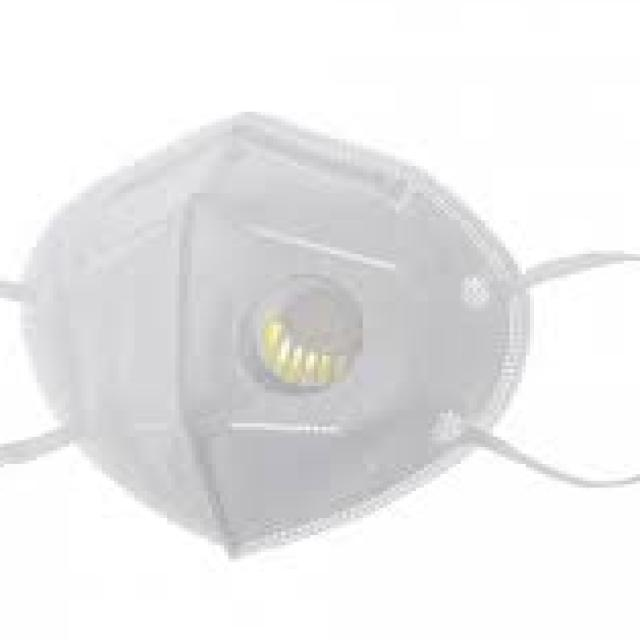organic: (19, 67, 581, 578)
